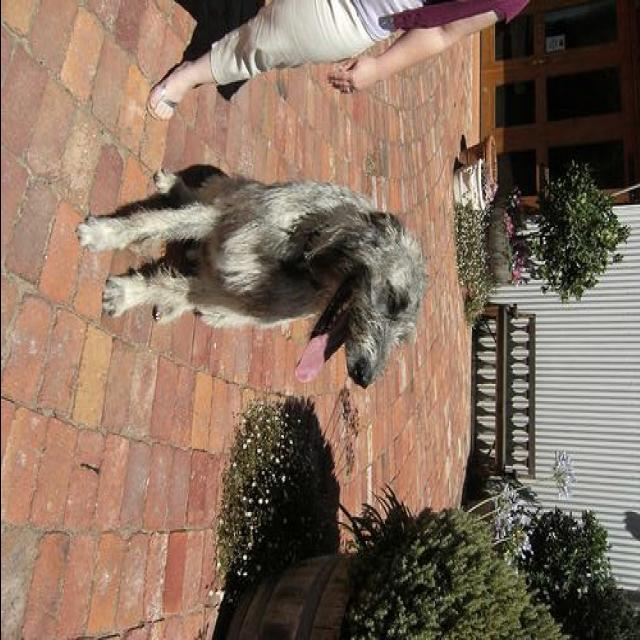irish_wolfhound: (70, 160, 428, 407)
